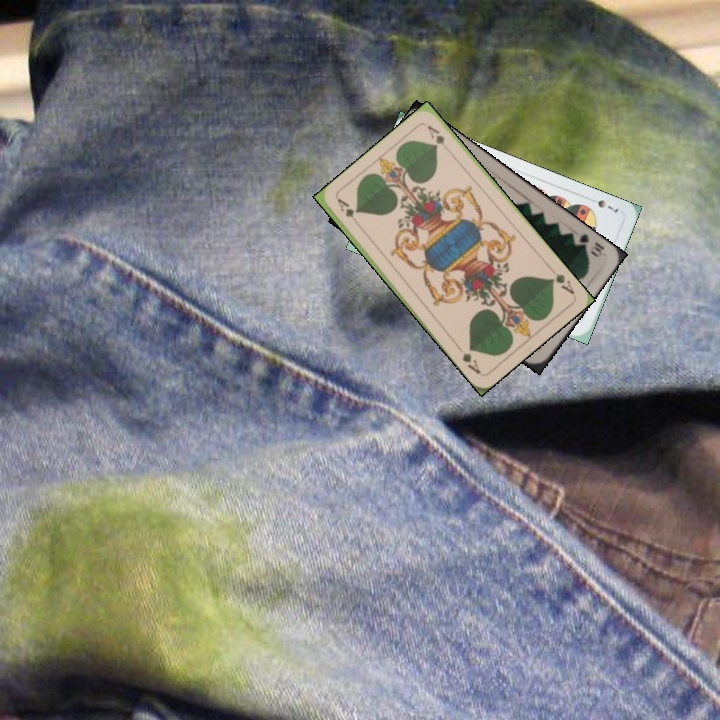G10: (569, 229, 607, 260)
GA: (545, 264, 577, 297), (333, 195, 363, 230)
S7: (584, 193, 621, 215)
